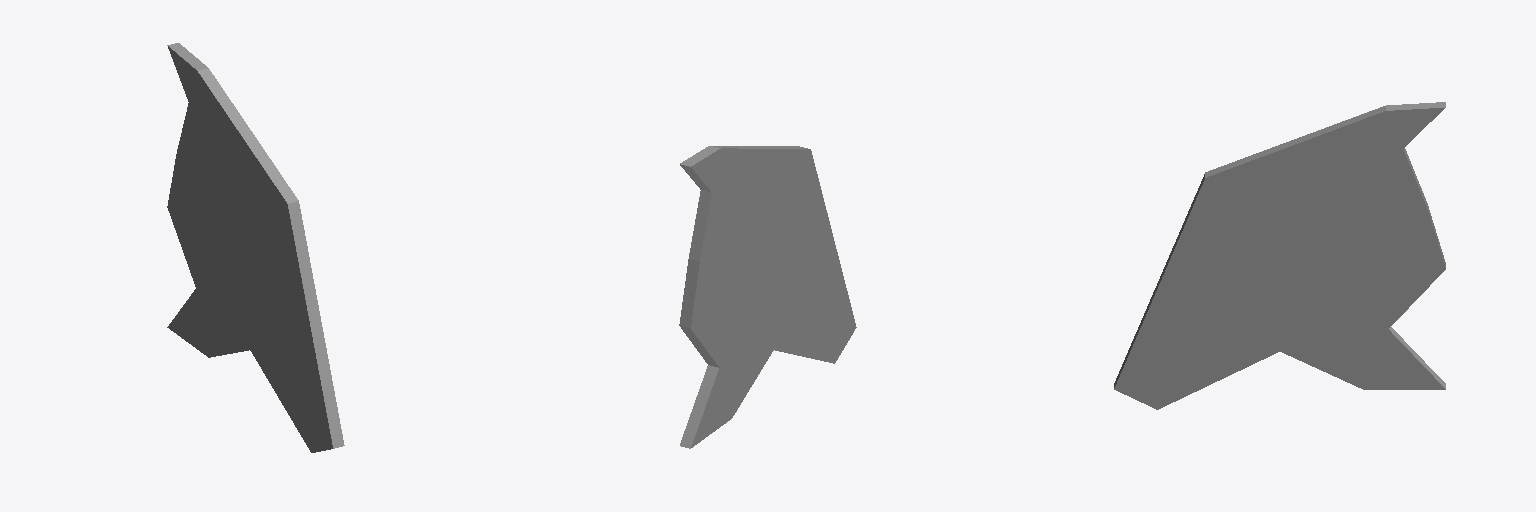
File: mirrorpeice.obj
The picture shows the model from 3 angles: view 1: azimuth 30°, elevation 25°; view 2: azimuth 150°, elevation 25°; view 3: azimuth 270°, elevation 25°; orthographic projection.
Parts seen in each view (by area): view 1: Cube; view 2: Cube; view 3: Cube.
Boxes of the visible parts, box(x1,y1,x2,y2) form: Cube: box(167, 43, 344, 452); Cube: box(679, 146, 856, 448); Cube: box(1114, 102, 1445, 409).
Bounding box in the file's own units: 0.1098 × 2.78 × 2.76.